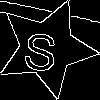S: (21, 23, 60, 73)
